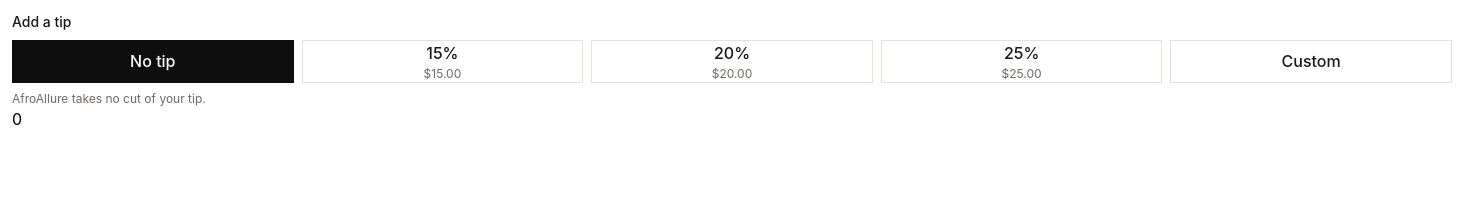
Test: TipPicker › rejects a bad custom amount (abc) without saving
Click the button "Custom" at coordinates (1311, 61), box [1170, 40, 1452, 83]
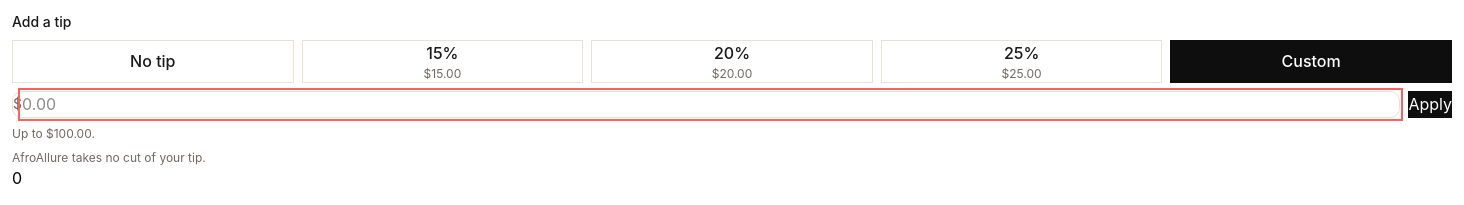
Type "abc" into the field named "Custom tip in dollars" at coordinates (711, 104), box [22, 92, 1399, 117]
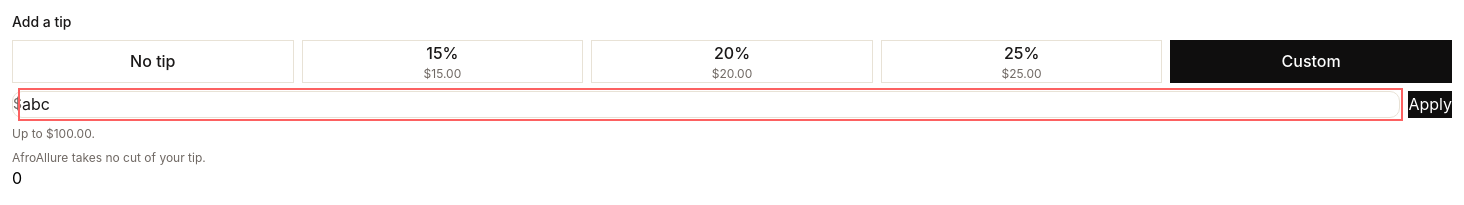
Click the button "Apply" at coordinates (1430, 104), box [1408, 91, 1452, 118]
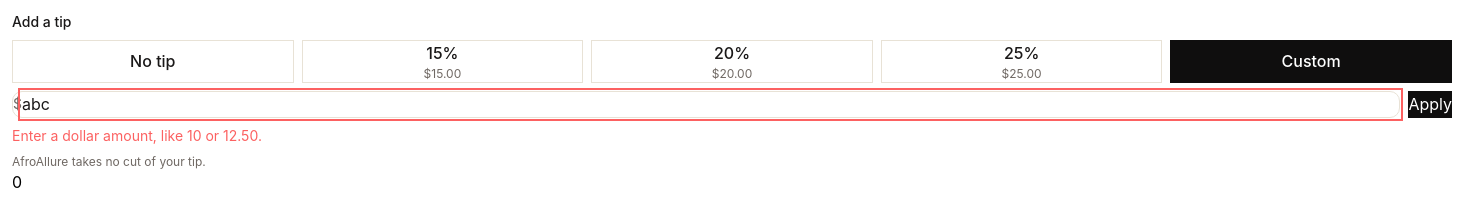
Expected: the text "Enter a dollar amount, like 10 or 12.50." is shown, [12, 127, 262, 144]
